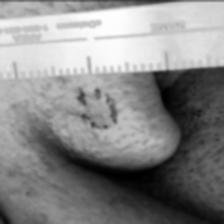Potentially Malignant Skin Tumors: (68, 85, 120, 130)
